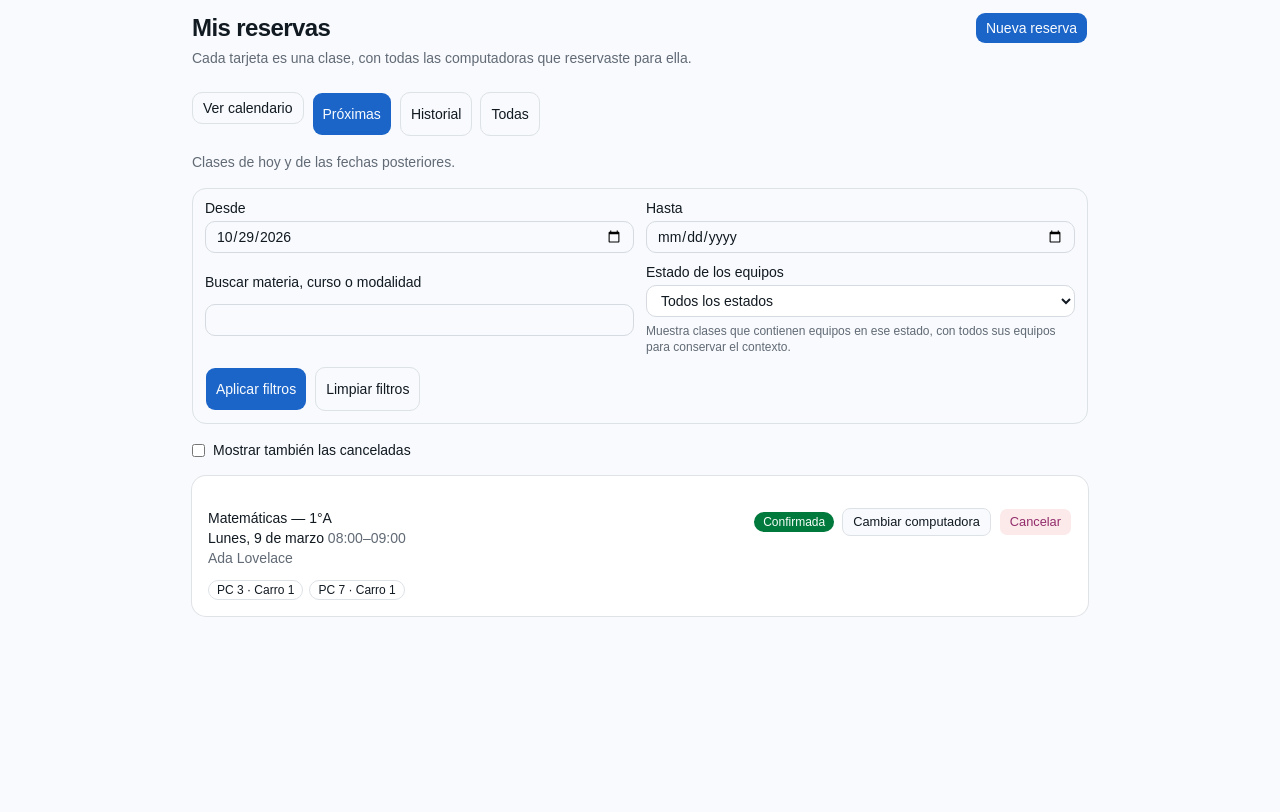
Test: MisReservasPage › cancelación › avisa cuántos equipos se van a cancelar
Click the button "Cancelar" at (1035, 522), box top-left (999, 508), bottom-right (1072, 536)
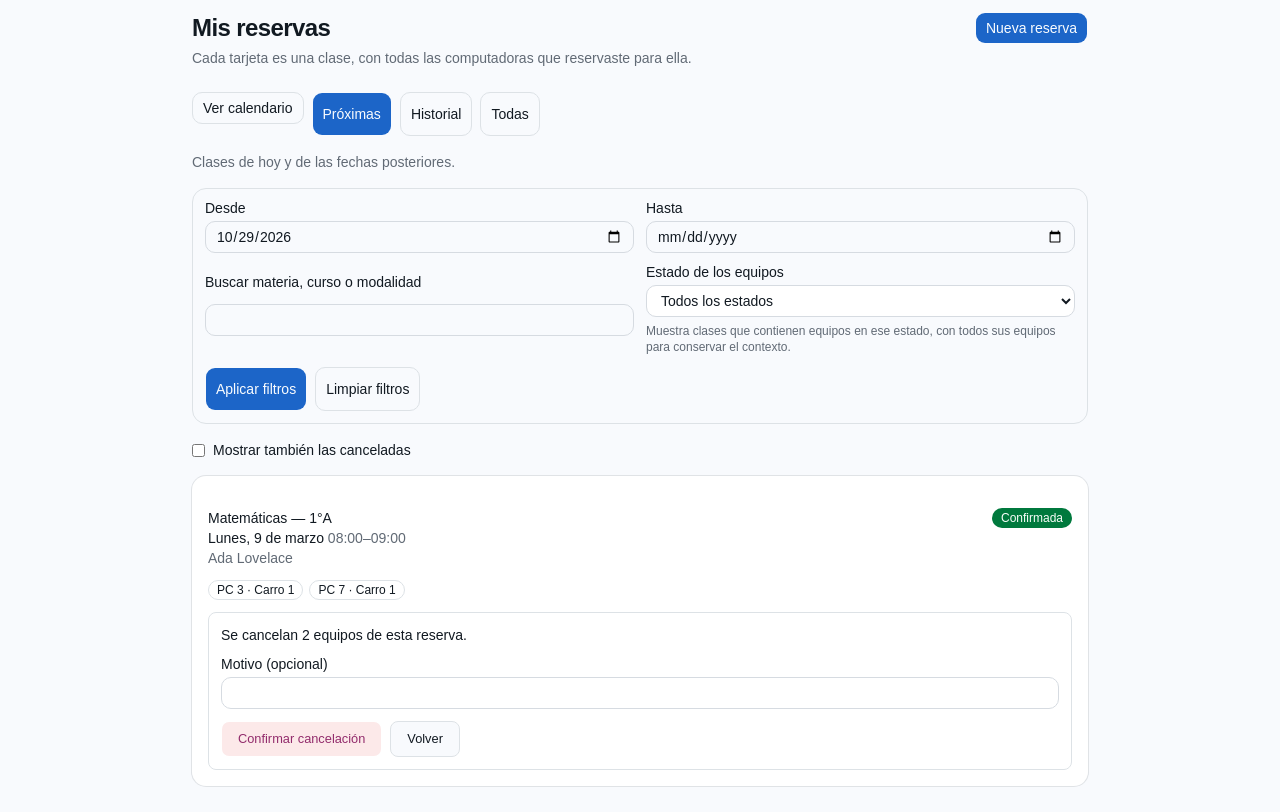
Expected: the text "Se cancelan 2 equipos de esta reserva." is shown, top-left (221, 627), bottom-right (467, 643)
